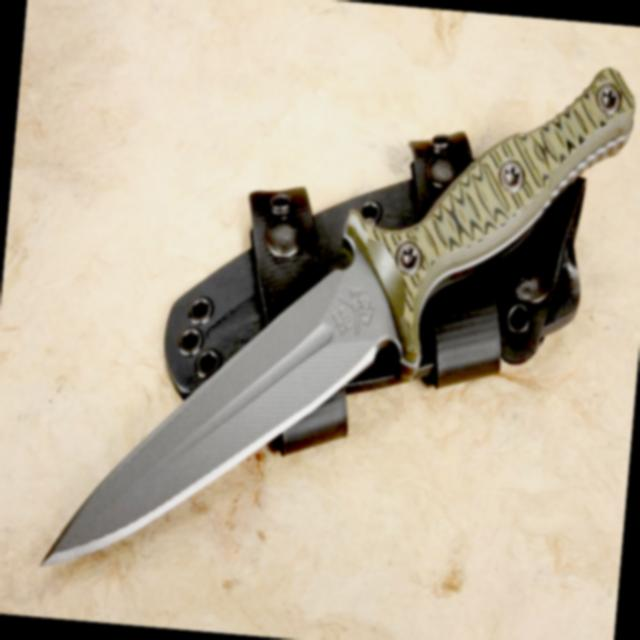short sword: (30, 10, 640, 621)
